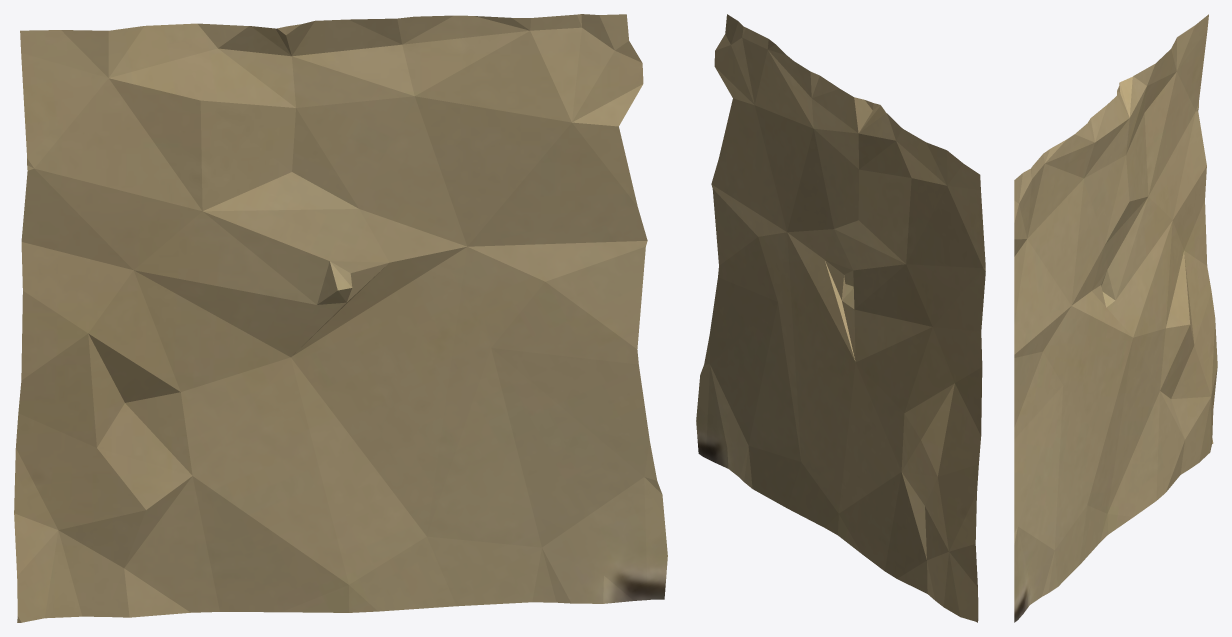
The picture shows the model from 3 angles, left to right: view 1: azimuth 30°, elevation 25°; view 2: azimuth 150°, elevation 25°; view 3: azimuth 270°, elevation 25°; orthographic projection. The views are drawn at different scales.
Size of the model in its own units: 0.7561 by 0.8374 by 0.3597.
Materials: 2 (2 with a texture image).
